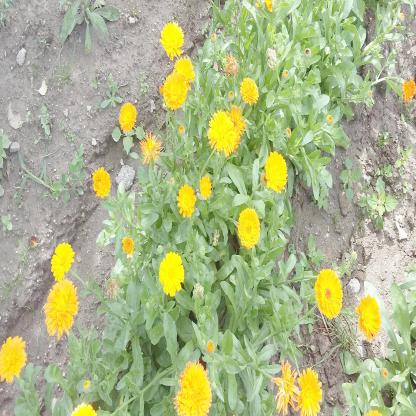marigold: (44, 280, 77, 333), (179, 363, 212, 415), (316, 268, 343, 316), (211, 110, 236, 155), (298, 370, 322, 416), (159, 251, 183, 296), (273, 364, 297, 406), (0, 338, 25, 378), (357, 295, 380, 336), (266, 148, 287, 192), (159, 21, 185, 56), (238, 208, 260, 245), (51, 242, 74, 277), (164, 73, 188, 105), (179, 184, 196, 218), (119, 102, 137, 130), (93, 171, 109, 197), (176, 56, 194, 79), (242, 77, 257, 102), (200, 174, 212, 199)
